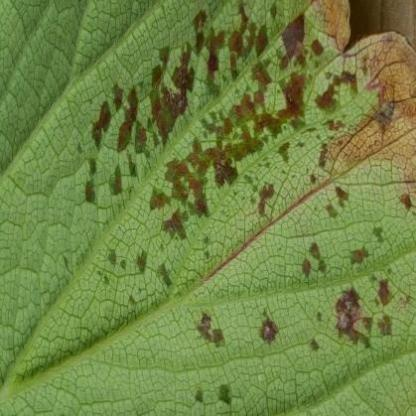Strawberry_Angular_LeafSpot: (52, 0, 416, 411)
